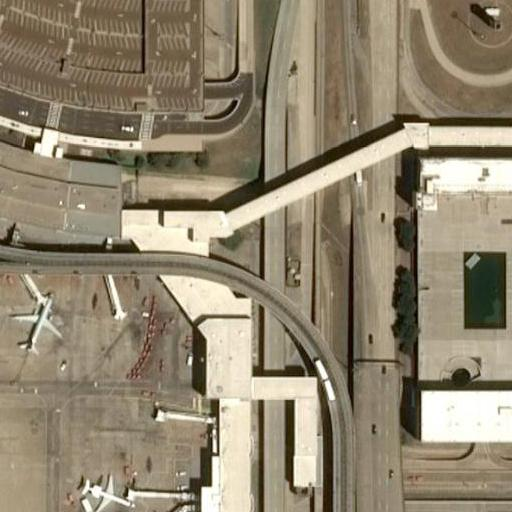Aircraft: (9, 288, 71, 357), (76, 469, 135, 512)
